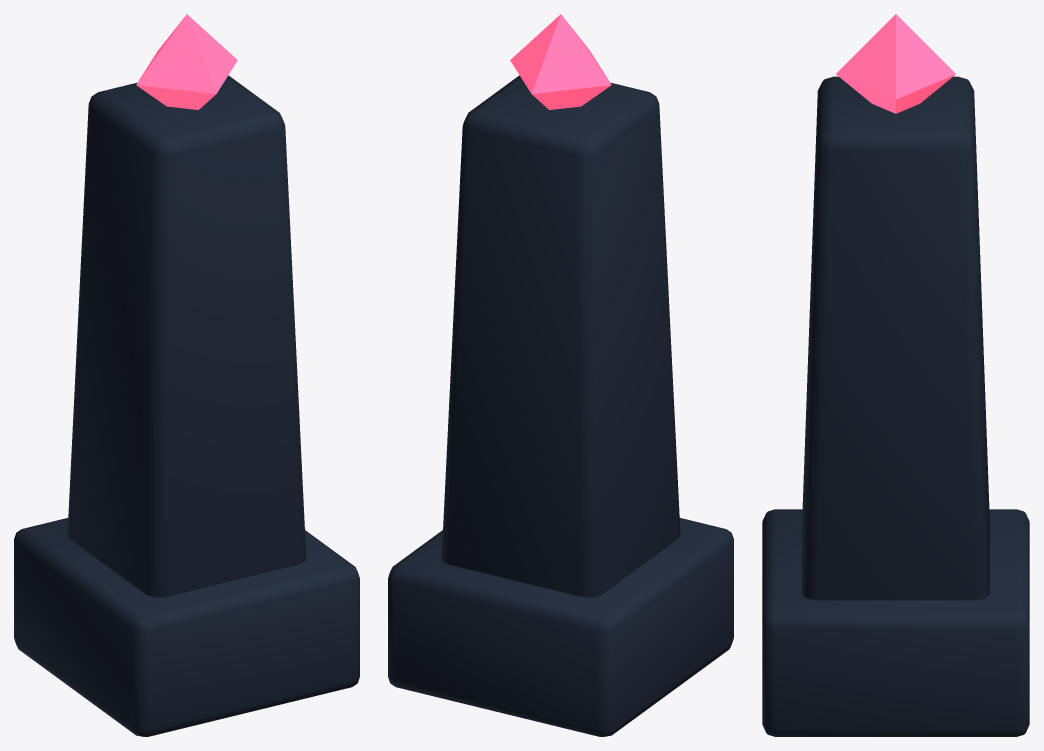
Rendered from prop_laser_pylon.glb.
3 views of the same model, side by side, from view 1: azimuth 30°, elevation 25°; view 2: azimuth 150°, elevation 25°; view 3: azimuth 270°, elevation 25° (orthographic). The views are drawn at different scales.
Parts seen in each view (by area): view 1: PylonTower, PylonBase, TopCap; view 2: PylonTower, PylonBase, TopCap; view 3: PylonTower, PylonBase, TopCap.
Boxes of the visible parts, x1,y1,x2,y2 form: PylonTower: (67, 75, 306, 597); PylonBase: (14, 518, 359, 736); TopCap: (136, 14, 237, 109); PylonTower: (441, 75, 680, 597); PylonBase: (388, 518, 733, 736); TopCap: (510, 14, 611, 109); PylonTower: (802, 76, 989, 600); PylonBase: (762, 509, 1029, 736); TopCap: (836, 14, 955, 113).
Size of the model in its own units: 0.62 by 1.72 by 0.62.
